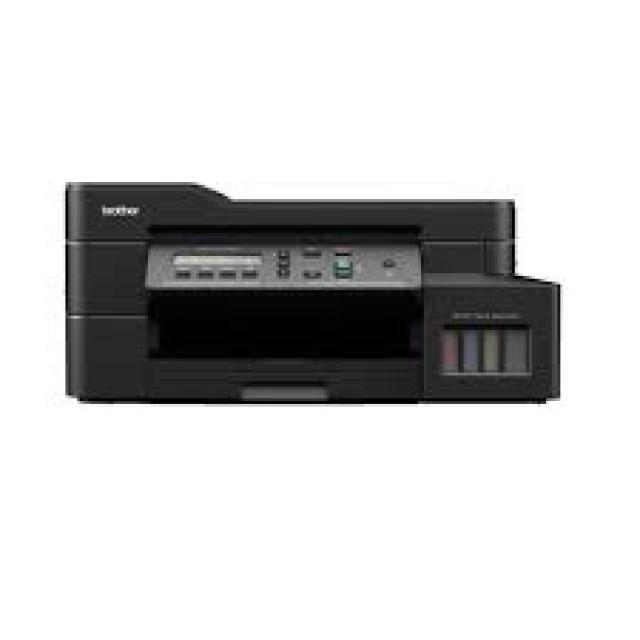printer: (62, 179, 560, 404)
